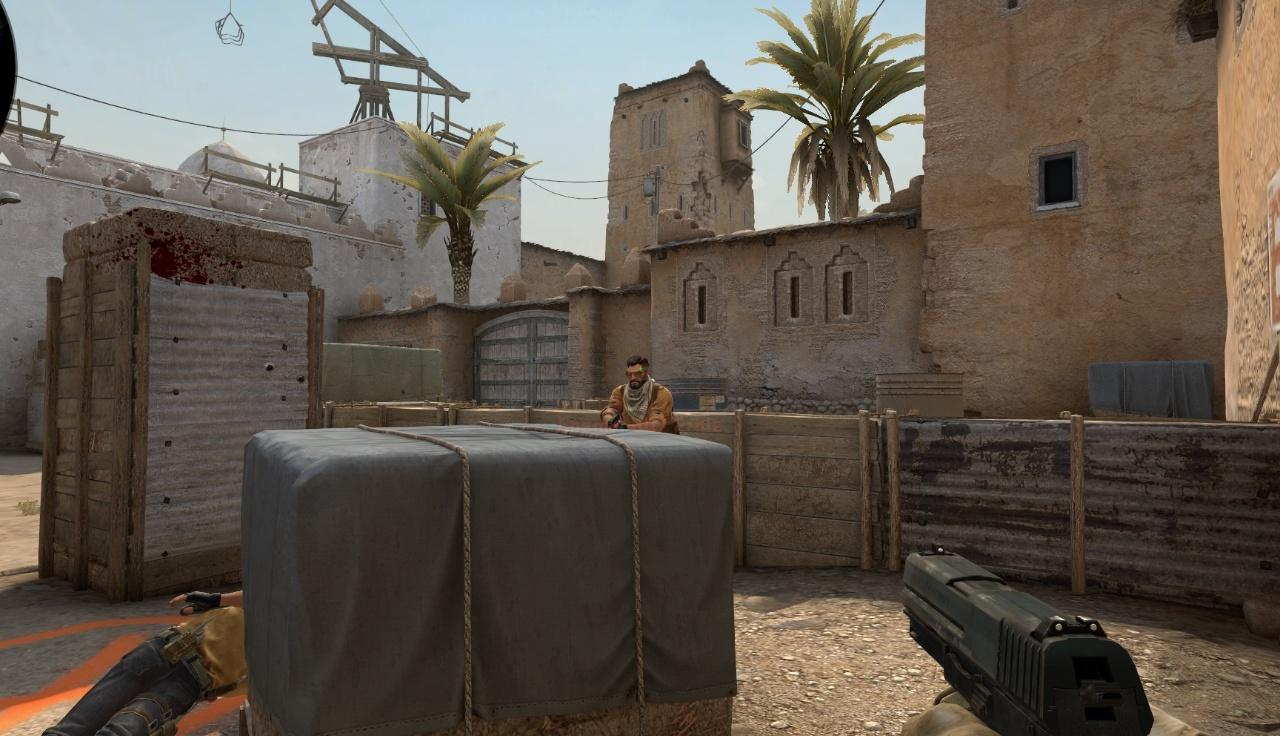pistol: (900, 543, 1227, 736)
tt: (602, 356, 679, 438)
tthead: (626, 356, 649, 388)
